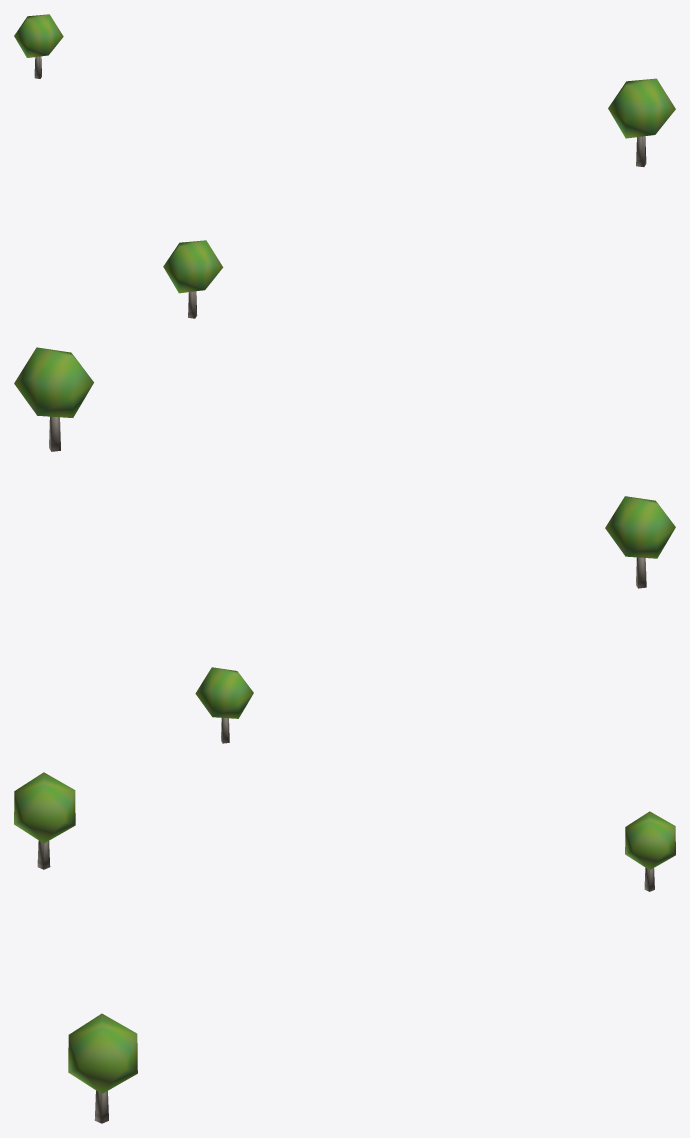
File: ISL-M_LOD2_Trees.fbx
3 views of the same model, one above another, from view 1: azimuth 30°, elevation 25°; view 2: azimuth 150°, elevation 25°; view 3: azimuth 270°, elevation 25° (orthographic). The views are drawn at different scales.
Visible parts, largest first — view 1: ISL-M_LOD2_Trees; view 2: ISL-M_LOD2_Trees; view 3: ISL-M_LOD2_Trees.
Boxes of the visible parts, box(x1,y1,x2,y2) form: ISL-M_LOD2_Trees: box(14, 14, 675, 318); ISL-M_LOD2_Trees: box(14, 347, 675, 743); ISL-M_LOD2_Trees: box(14, 772, 675, 1123).
Size of the model in its own units: 31.2 by 28.77 by 5.8.
